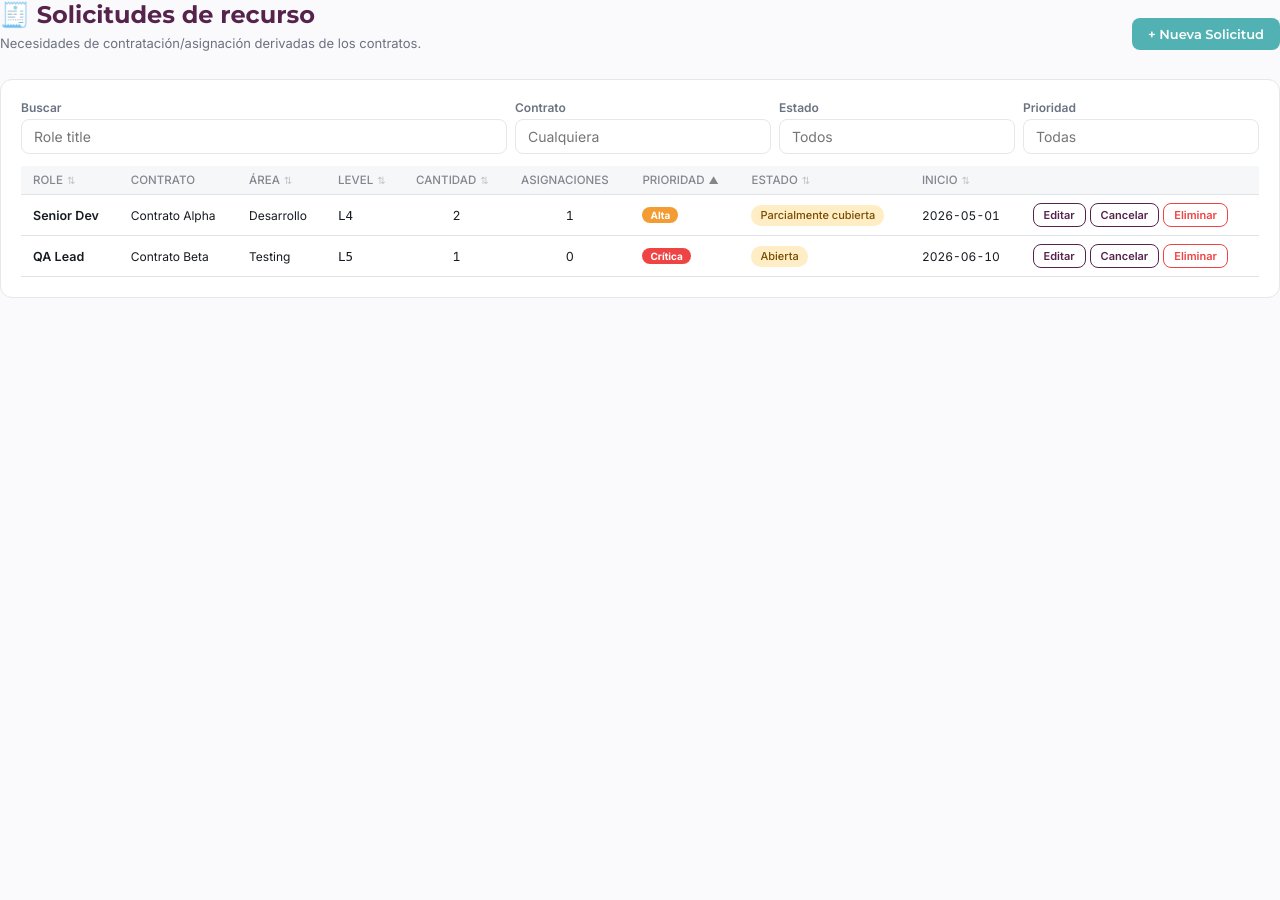
Test: ResourceRequests module › SPEC-010: selector de contrato con búsqueda por texto › filtra contratos al escribir (coincidencia parcial)
The width and height of the screenshot is (1280, 900).
Check: the text "Senior Dev" is shown, box [21,194,119,236]
Step 1. Click the button "+ Nueva Solicitud" → [1206, 34], box [1132,18,1279,50]
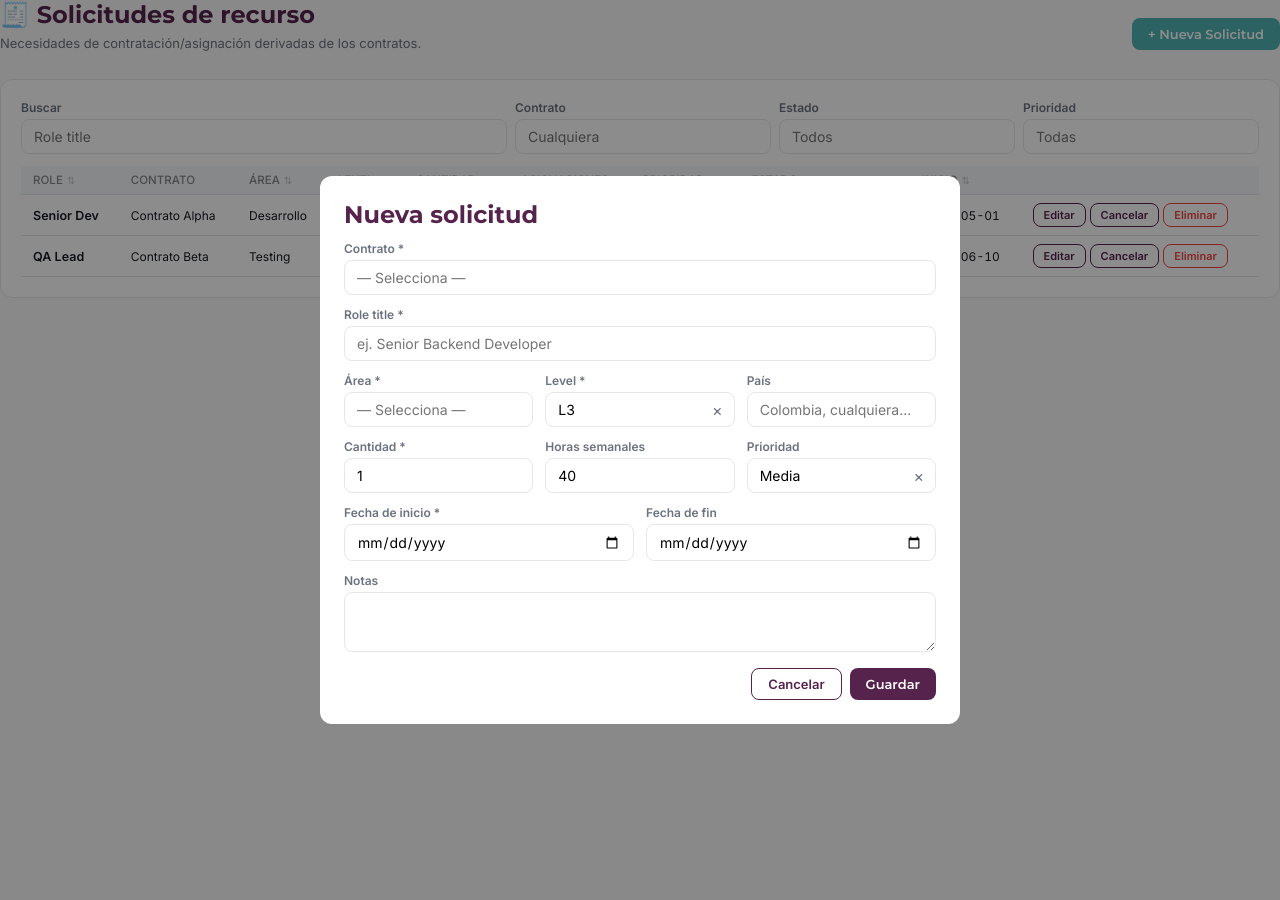
Step 2. Type "Alpha" into the dropdown named "Contrato" → [640, 278], box [344,260,936,295]
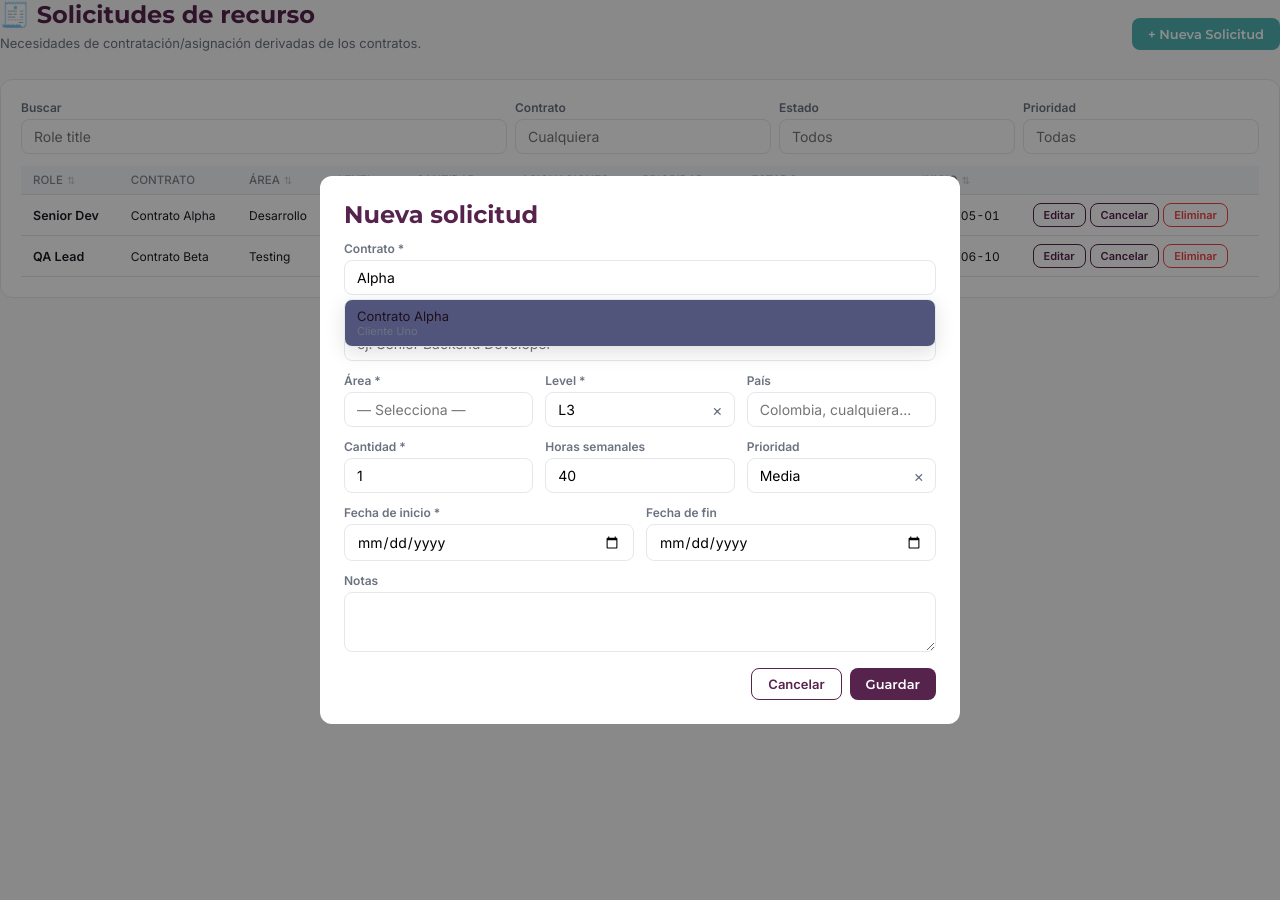
Check: the text "Contrato Alpha" is shown, box [357,308,449,324]
